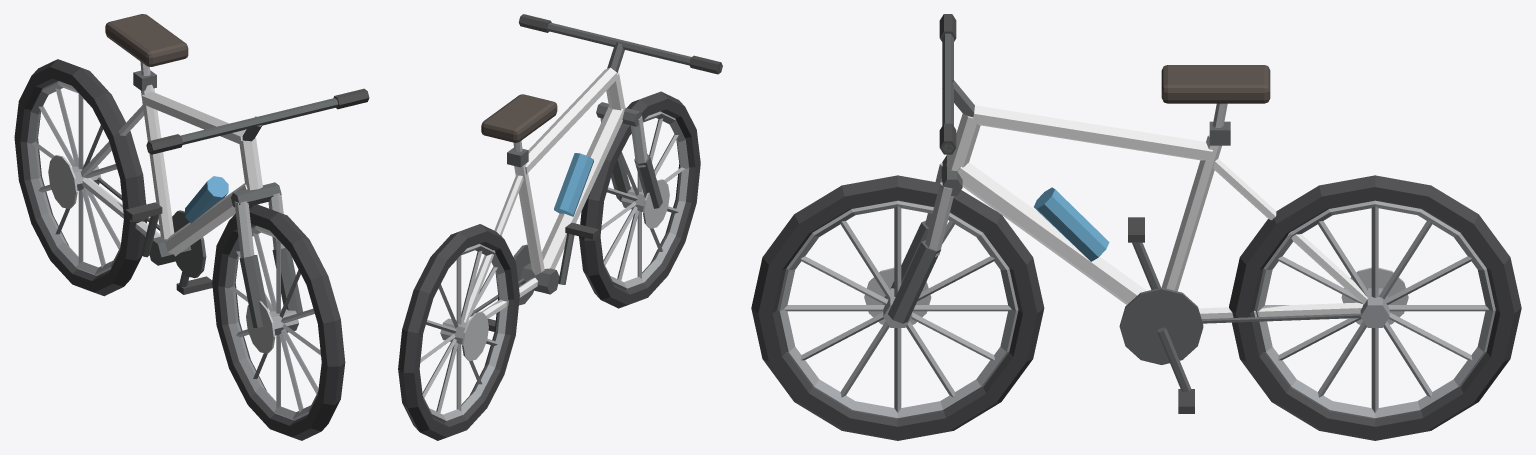
Rendered from bike-mtb.glb.
3 views of the same model, side by side, from view 1: azimuth 30°, elevation 25°; view 2: azimuth 150°, elevation 25°; view 3: azimuth 270°, elevation 25° (orthographic). The views are drawn at different scales.
Parts seen in each view (by area): view 1: wheel-back, wheel-front, body, steer, seat, detach_bottle, detach_seatclamp; view 2: wheel-back, wheel-front, body, steer, seat, detach_bottle, detach_seatclamp; view 3: wheel-back, wheel-front, body, steer, seat, detach_bottle.
Part boxes in pixels (x1,y1,x2,y2): wheel-back: (14,59,147,296); wheel-front: (212,204,345,440); body: (80,61,262,294); steer: (146,88,369,327); seat: (105,14,188,66); detach_bottle: (185,176,228,223); detach_seatclamp: (133,70,156,91); wheel-back: (398,224,519,440); wheel-front: (579,91,700,308); body: (464,67,625,331); steer: (518,14,722,208); seat: (481,94,557,142); detach_bottle: (554,153,593,216); detach_seatclamp: (507,147,528,167); wheel-back: (1229,175,1521,440); wheel-front: (751,175,1044,440); body: (946,103,1367,413); steer: (888,14,974,323); seat: (1161,65,1270,103); detach_bottle: (1034,187,1109,261).
Bounding box in the file's own units: 0.72 × 0.965 × 1.84.
